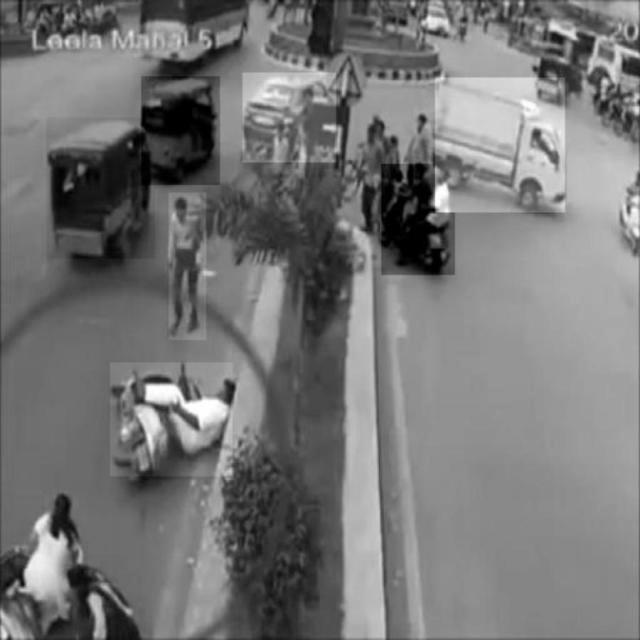person: (169, 193, 206, 340)
vehicle: (435, 78, 565, 212), (47, 118, 155, 259), (110, 363, 234, 476), (142, 77, 220, 185), (243, 73, 336, 163), (382, 164, 455, 275)
